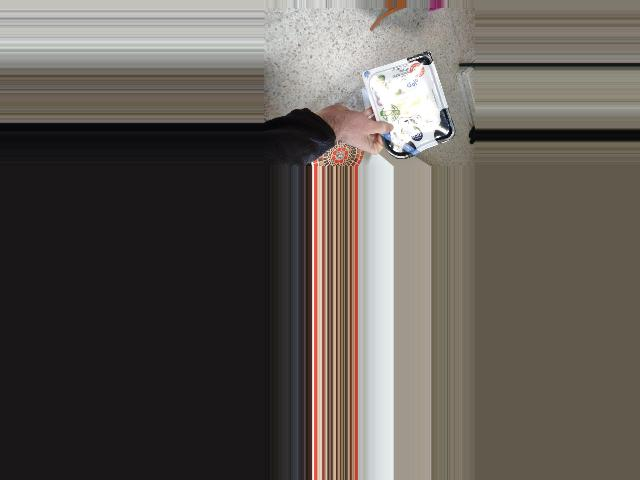cheese: (379, 63, 445, 153)
